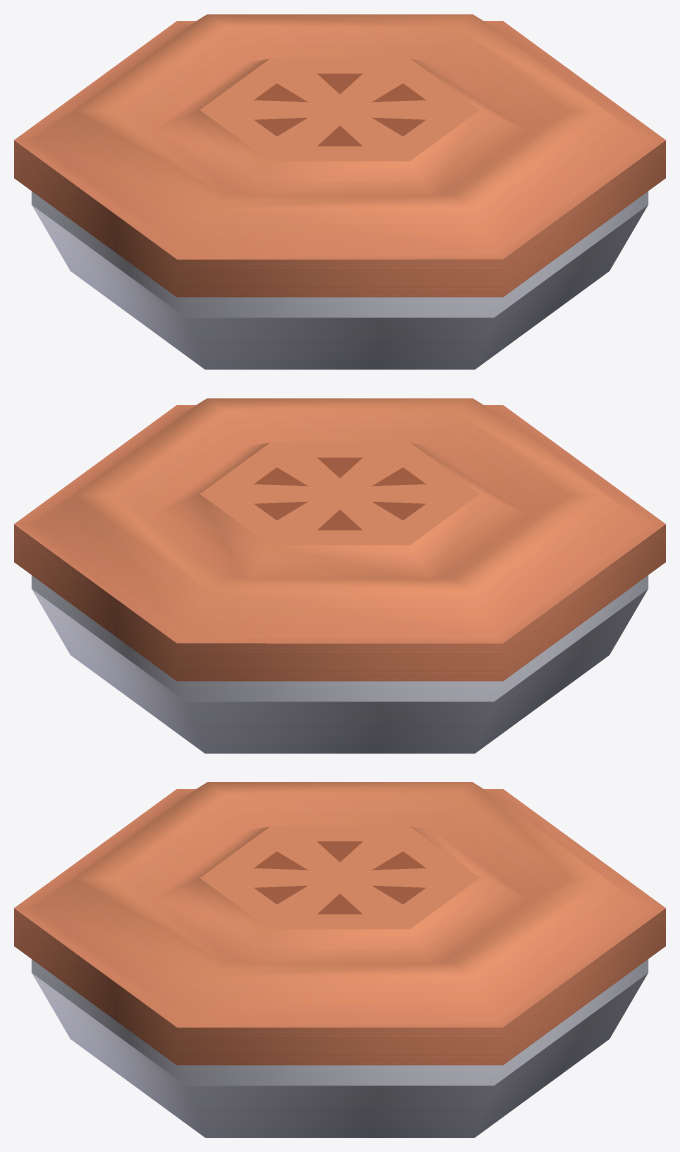
File: mincemeat-pie.glb
3 renders of one model, top to bottom at view 1: azimuth 30°, elevation 25°; view 2: azimuth 150°, elevation 25°; view 3: azimuth 270°, elevation 25°, orthographic.
Visible parts, largest first — view 1: mincemeat-pie; view 2: mincemeat-pie; view 3: mincemeat-pie.
Part boxes in pixels (x1,y1,x2,y2): mincemeat-pie: (14,14,665,369); mincemeat-pie: (14,398,665,753); mincemeat-pie: (14,782,665,1137).
Bounding box in the file's own units: 0.531 × 0.1673 × 0.6131.
1 material, 1 textured.
